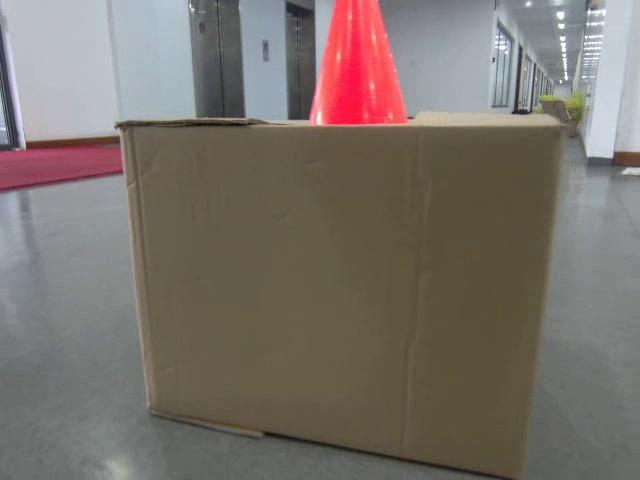orange_barrel: (307, 0, 410, 124)
